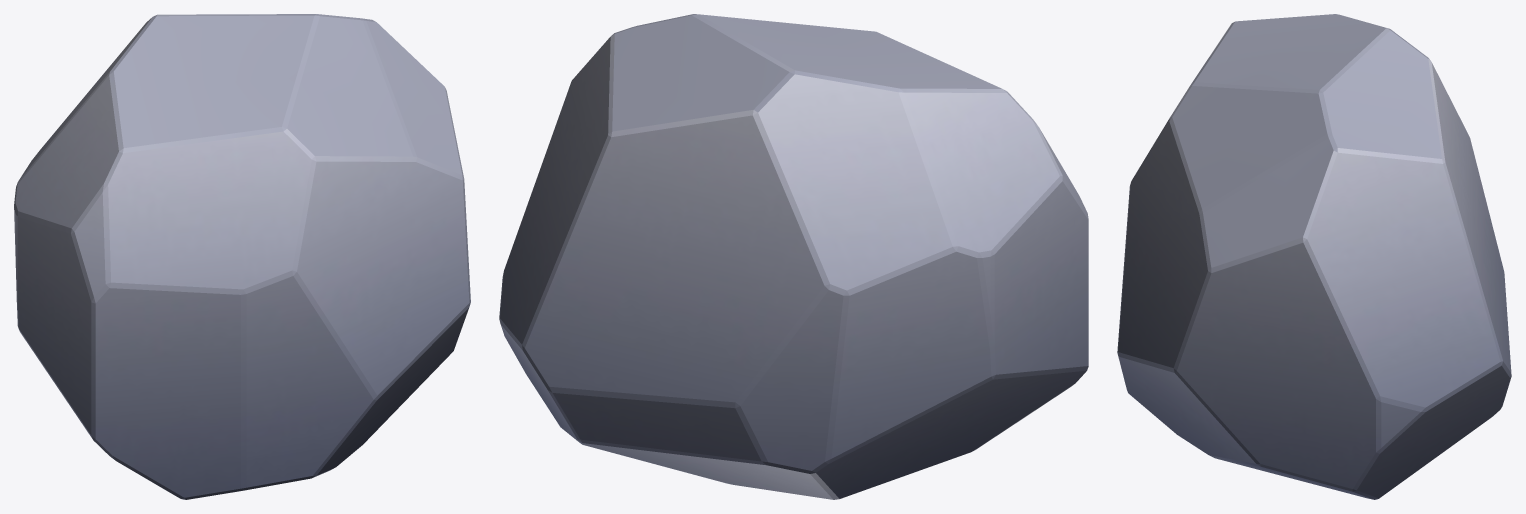
File: Rock4_1.fbx
3 renders of one model, left to right at view 1: azimuth 30°, elevation 25°; view 2: azimuth 150°, elevation 25°; view 3: azimuth 270°, elevation 25°, orthographic. The views are drawn at different scales.
Visible parts, largest first — view 1: Rock4_1.008, Rock4_1.007, Rock4_1.017, Rock4_1.006, Rock4_1.018, Rock4_1.005, Rock4_1.016, Rock4_1.013, Rock4_1.004, Rock4_1.019, Rock4_1.014, Rock4_1.012; view 2: Rock4_1.002, Rock4_1.012, Rock4_1.015, Rock4_1.013, Rock4_1.001, Rock4_1.016, Rock4_1.003, Rock4_1.021, Rock4_1.006, Rock4_1.022, Rock4_1.011, Rock4_1.025 (+1 smaller); view 3: Rock4_1.003, Rock4_1.009, Rock4_1.008, Rock4_1.005, Rock4_1.001, Rock4_1.006, Rock4_1.004, Rock4_1.002, Rock4_1.010, Rock4_1.019, Rock4_1.020.
Part boxes in pixels (bbox=[...]): Rock4_1.008: bbox=[293, 161, 470, 400]; Rock4_1.007: bbox=[102, 131, 316, 294]; Rock4_1.017: bbox=[93, 288, 246, 499]; Rock4_1.006: bbox=[109, 15, 314, 153]; Rock4_1.018: bbox=[243, 276, 376, 490]; Rock4_1.005: bbox=[282, 15, 415, 161]; Rock4_1.016: bbox=[17, 217, 95, 440]; Rock4_1.013: bbox=[14, 75, 118, 233]; Rock4_1.004: bbox=[362, 20, 464, 180]; Rock4_1.019: bbox=[313, 308, 468, 477]; Rock4_1.014: bbox=[71, 193, 109, 303]; Rock4_1.012: bbox=[16, 18, 151, 186]; Rock4_1.002: bbox=[522, 113, 829, 408]; Rock4_1.012: bbox=[758, 74, 958, 295]; Rock4_1.015: bbox=[825, 251, 995, 463]; Rock4_1.013: bbox=[904, 92, 1062, 257]; Rock4_1.001: bbox=[608, 14, 794, 137]; Rock4_1.016: bbox=[993, 181, 1088, 379]; Rock4_1.003: bbox=[499, 37, 610, 349]; Rock4_1.021: bbox=[810, 370, 1086, 499]; Rock4_1.006: bbox=[699, 14, 1007, 92]; Rock4_1.022: bbox=[740, 290, 843, 473]; Rock4_1.011: bbox=[552, 393, 767, 465]; Rock4_1.025: bbox=[582, 443, 833, 499]; Rock4_1.003: bbox=[1303, 150, 1501, 411]; Rock4_1.009: bbox=[1175, 243, 1425, 491]; Rock4_1.008: bbox=[1117, 122, 1211, 372]; Rock4_1.005: bbox=[1169, 82, 1327, 213]; Rock4_1.001: bbox=[1318, 28, 1445, 163]; Rock4_1.006: bbox=[1191, 14, 1388, 89]; Rock4_1.004: bbox=[1199, 134, 1333, 272]; Rock4_1.002: bbox=[1431, 62, 1511, 377]; Rock4_1.010: bbox=[1353, 365, 1511, 499]; Rock4_1.019: bbox=[1119, 357, 1260, 466]; Rock4_1.020: bbox=[1217, 458, 1372, 499].
Size of the model in its own units: 0.8542 by 0.729 by 0.6935.
